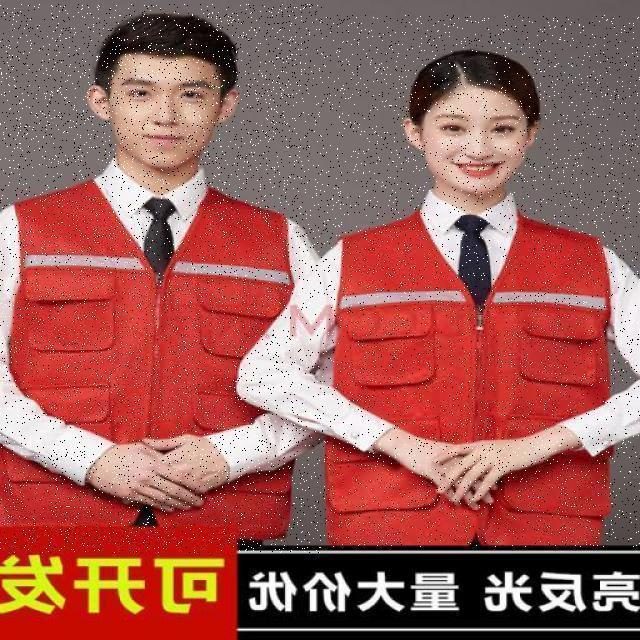no glove: (89, 436, 202, 516), (433, 436, 522, 505), (146, 432, 232, 488)
no helmet: (88, 8, 246, 172), (396, 48, 544, 196)
person: (0, 4, 325, 552), (306, 15, 640, 547)
vest: (0, 172, 304, 532), (333, 202, 618, 546)
